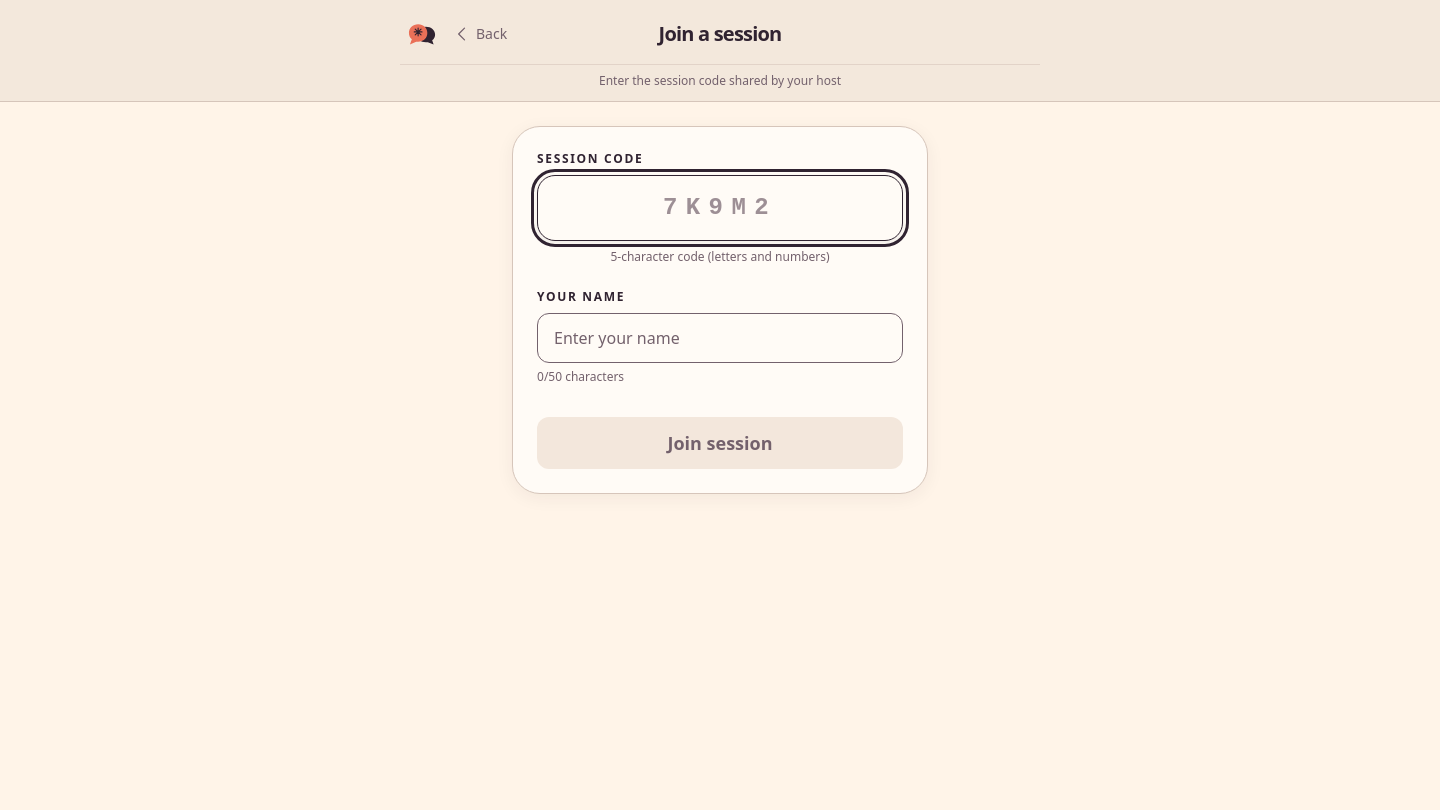
Test: JoinSessionPage late-join landing › surfaces the finished-session refusal verbatim
Type "AB123" into the field labelled "Session code" at {"x": 720, "y": 208}, box top-left (537, 175), bottom-right (903, 241)
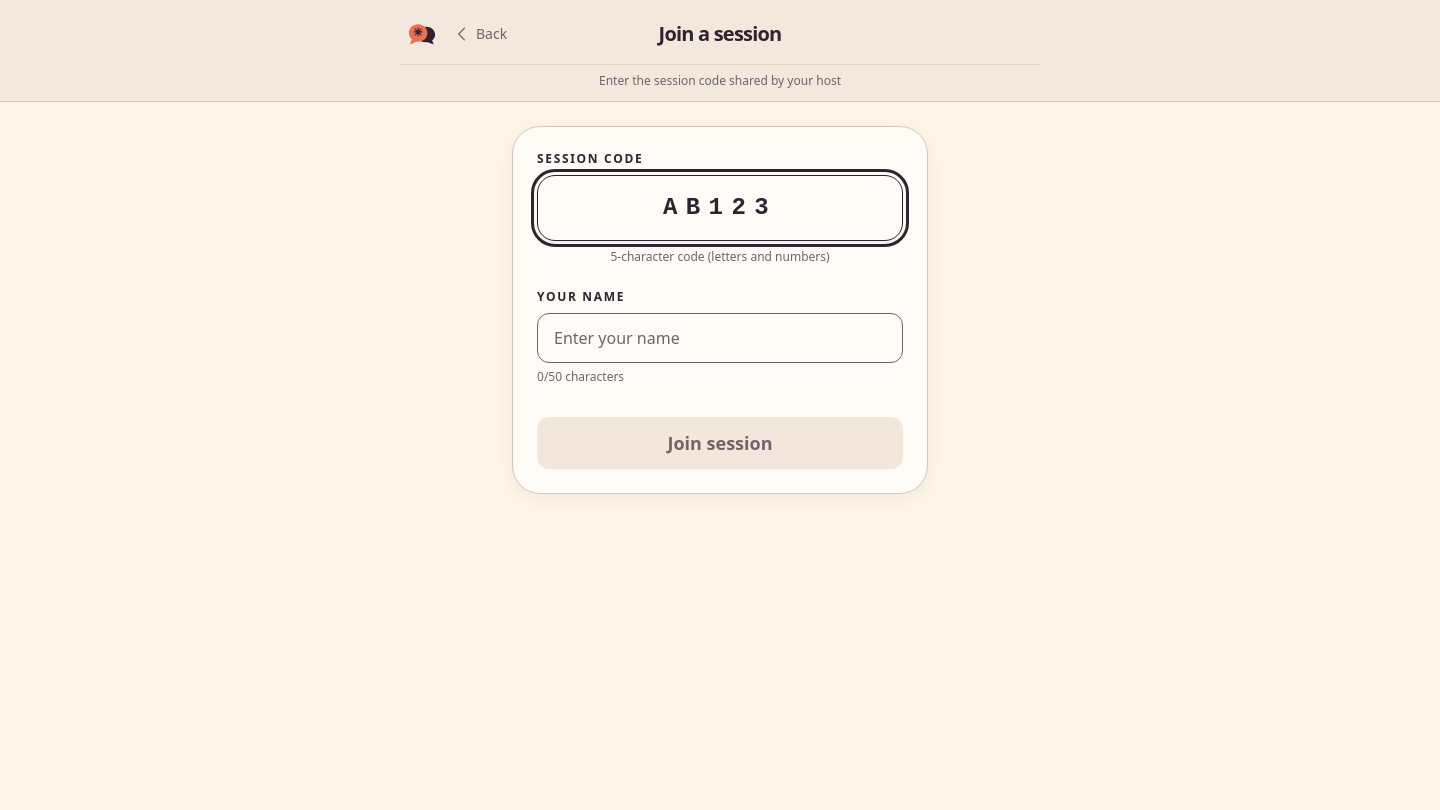
Type "Bob" into the field labelled "Your Name" at {"x": 720, "y": 338}, box top-left (537, 313), bottom-right (903, 363)
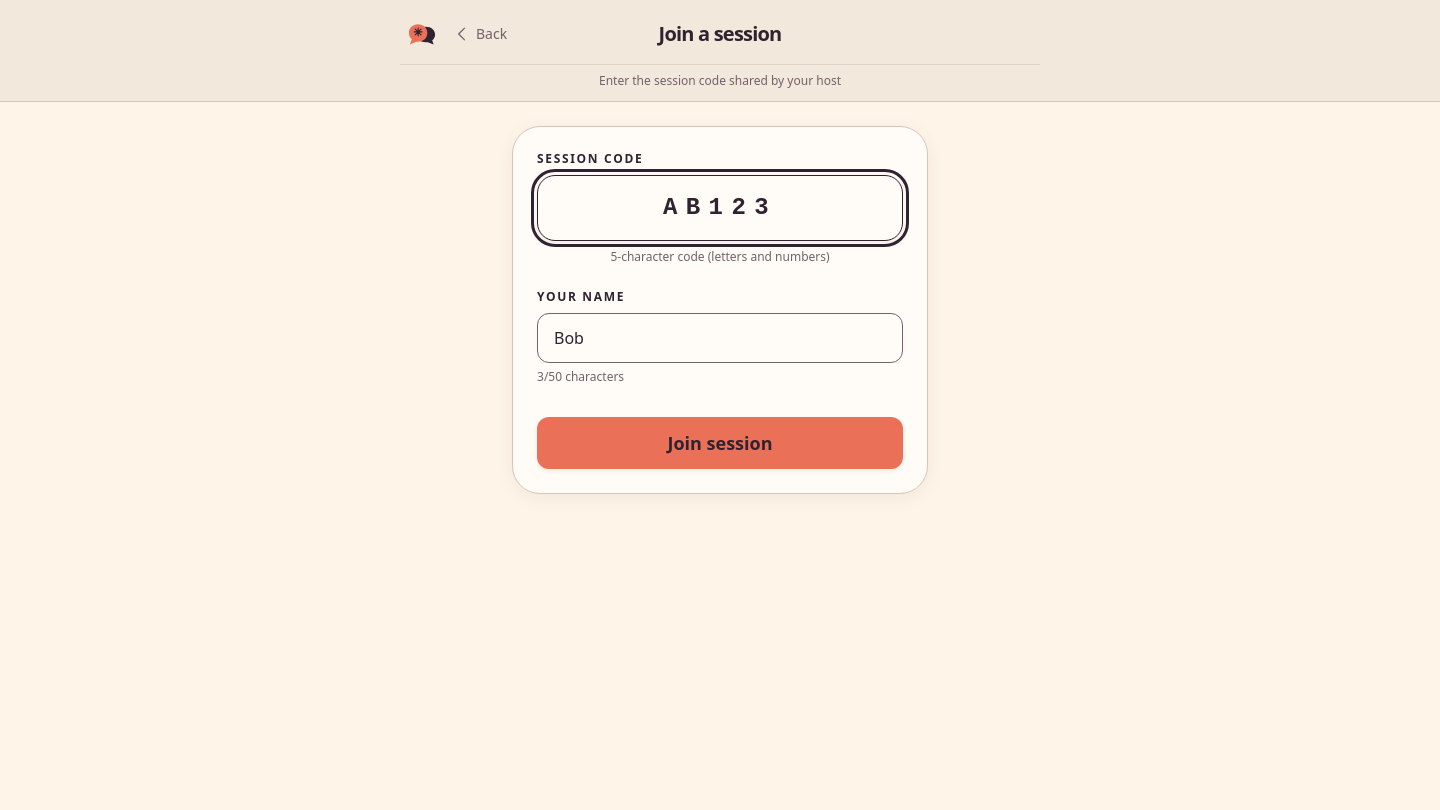
Click the button "Join session" at {"x": 720, "y": 443}, box top-left (537, 417), bottom-right (903, 469)
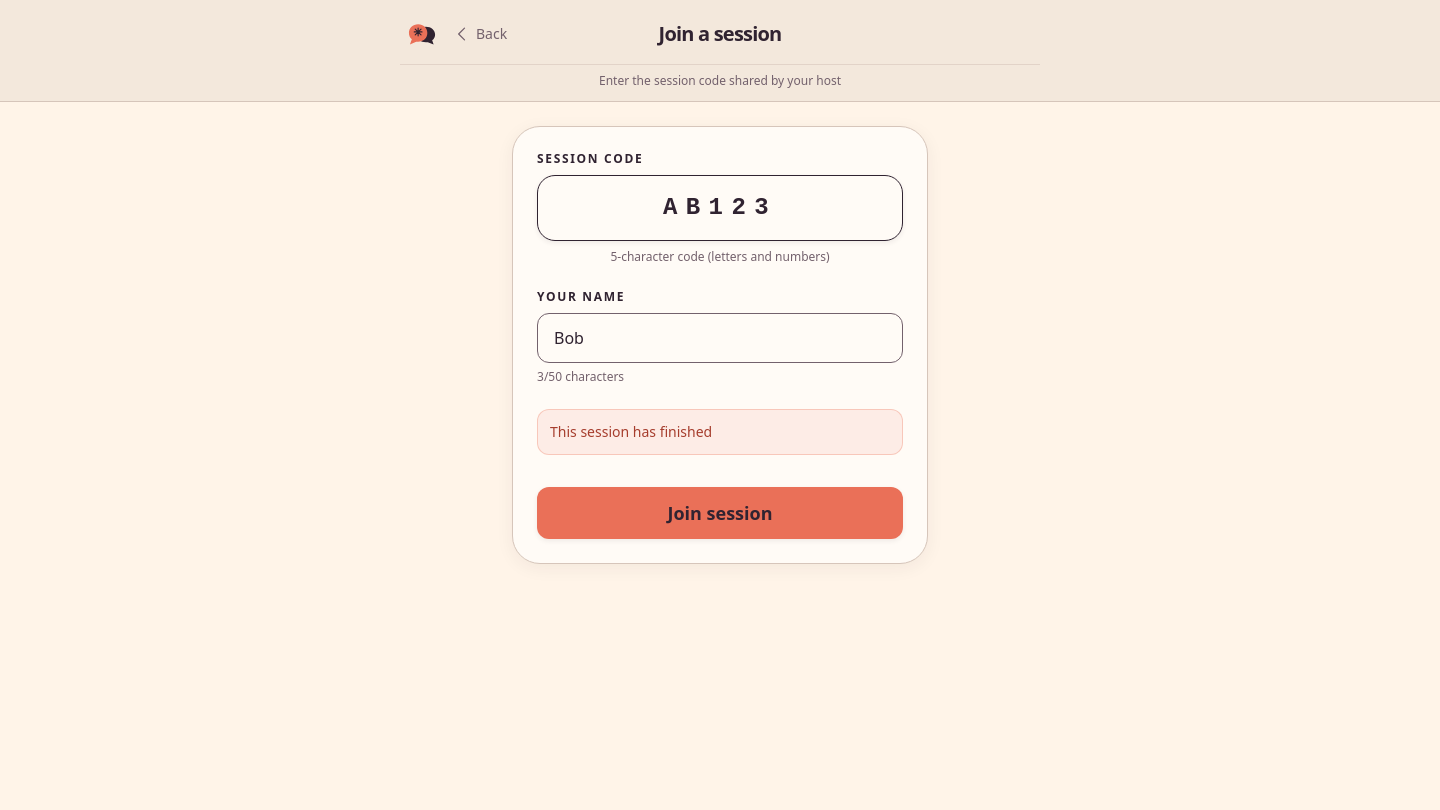
Now the text "This session has finished" is shown, box top-left (537, 409), bottom-right (903, 455)
